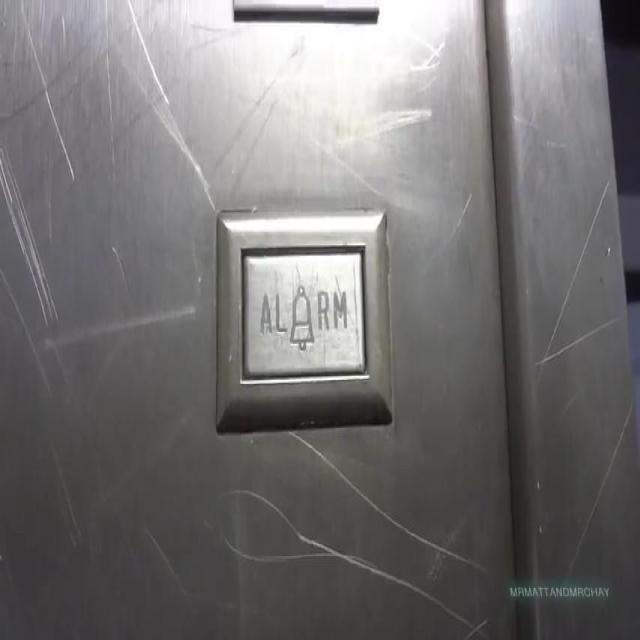alarm: (238, 240, 370, 379)
